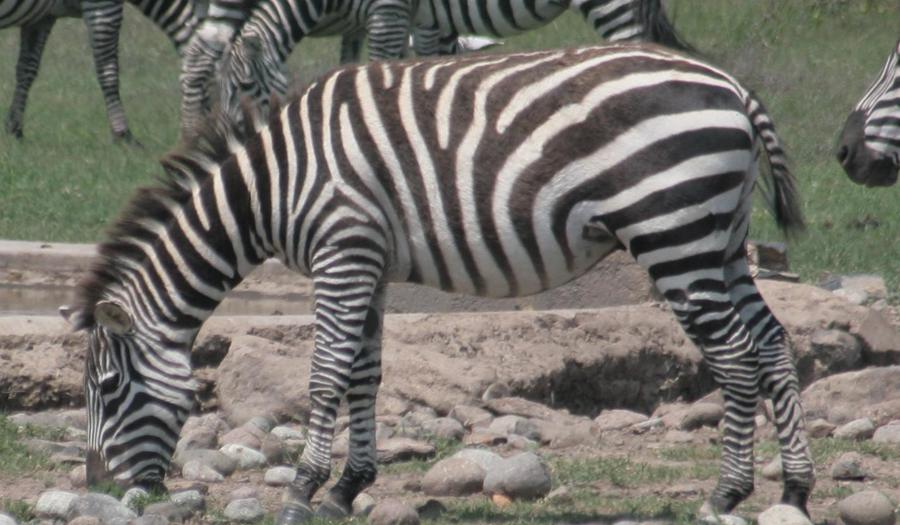zebra_plains: (238, 17, 766, 319)
